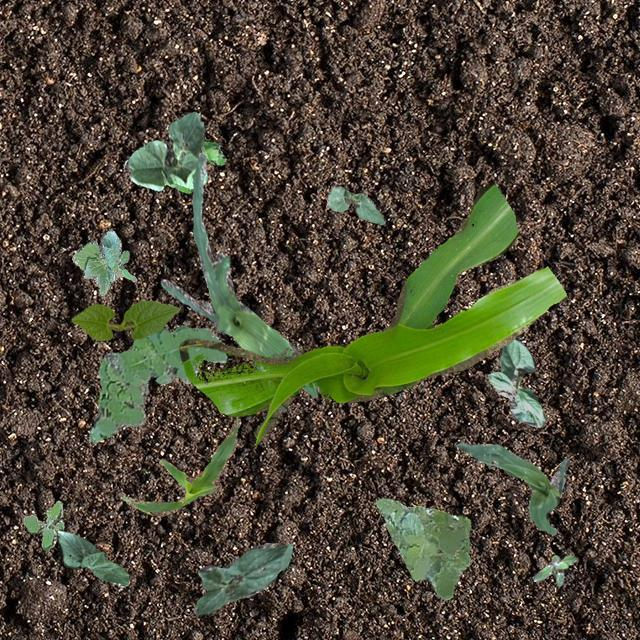crop: (178, 184, 566, 444), (160, 150, 318, 397), (120, 414, 240, 514), (453, 442, 568, 534), (192, 542, 292, 616), (124, 110, 205, 190), (486, 336, 546, 426), (70, 300, 178, 340), (55, 528, 128, 586), (72, 228, 136, 294), (326, 184, 384, 223)
weed: (88, 324, 224, 442), (374, 498, 470, 598), (162, 140, 225, 192), (22, 500, 62, 550), (532, 554, 576, 586)
